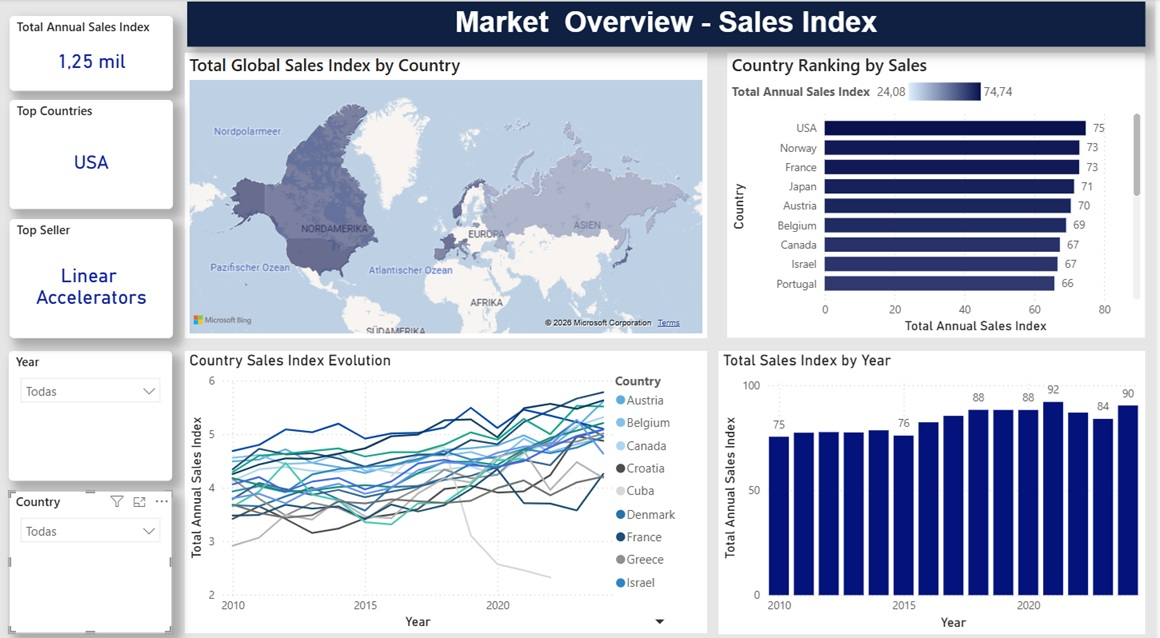

The page's visual inventory and layout, read from the dashboard file:
{"tool":"powerbi","page":{"name":"Page 1","canvas":[1280,720],"ordinal":1},"visuals":[{"type":"card","title":"Total Annual Sales Index","fields":{"Values":["_Metrics.Total Annual Sales Index"]},"box":[10.5,18.8,181.1,82.7],"z":0},{"type":"filledMap","title":"Total Global Sales Index by Country","fields":{"Category":["Countries.country"]},"box":[205,59.8,578.8,316],"z":1000},{"type":"slicer","title":"Year","fields":{"Values":["Results.year"]},"box":[10.1,390.2,181.3,143.6],"z":2000},{"type":"card","title":"Top Countries","fields":{"Values":["_Metrics.Top Country"]},"box":[10.5,112,181.1,121.4],"z":3000},{"type":"card","title":"Top Seller","fields":{"Values":["_Metrics.Top Product"]},"box":[10.5,243.9,181.1,131.9],"z":4000},{"type":"clusteredBarChart","title":"Country Ranking by Sales","fields":{"Category":["Countries.country"],"Y":["_Metrics.Total Annual Sales Index"]},"box":[805.6,59.8,463,316],"z":5000},{"type":"lineChart","title":"Country Sales Index Evolution","fields":{"Category":["Results.year"],"Series":["Countries.country"],"Y":["_Metrics.Total Annual Sales Index"]},"box":[205,390,578.8,313.1],"z":6000},{"type":"columnChart","title":"Total Sales Index by Year","fields":{"Category":["Results.year"],"Y":["_Metrics.Total Annual Sales Index"]},"box":[796,390.2,473,313.8],"z":7000},{"type":"textbox","box":[207,2.8,1061.9,49.7],"z":8000},{"type":"slicer","title":"Country","fields":{"Values":["Countries.country"]},"box":[10,545,181,158],"z":9000}]}

Visuals, with their boxes in screenshot pixels (x1, y1, x2, y2), scaled from the page's 1280x720 canvas onto the 1160x638 screenshot:
"Total Annual Sales Index" card: x1=10, y1=17, x2=174, y2=90
"Total Global Sales Index by Country" filledMap: x1=186, y1=53, x2=710, y2=333
"Year" slicer: x1=9, y1=346, x2=173, y2=473
"Top Countries" card: x1=10, y1=99, x2=174, y2=207
"Top Seller" card: x1=10, y1=216, x2=174, y2=333
"Country Ranking by Sales" clusteredBarChart: x1=730, y1=53, x2=1150, y2=333
"Country Sales Index Evolution" lineChart: x1=186, y1=346, x2=710, y2=623
"Total Sales Index by Year" columnChart: x1=721, y1=346, x2=1150, y2=624
textbox: x1=188, y1=2, x2=1150, y2=47
"Country" slicer: x1=9, y1=483, x2=173, y2=623
